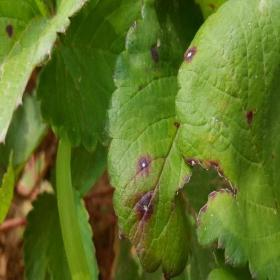Leaf Spot: (174, 0, 279, 279), (106, 0, 205, 279)
